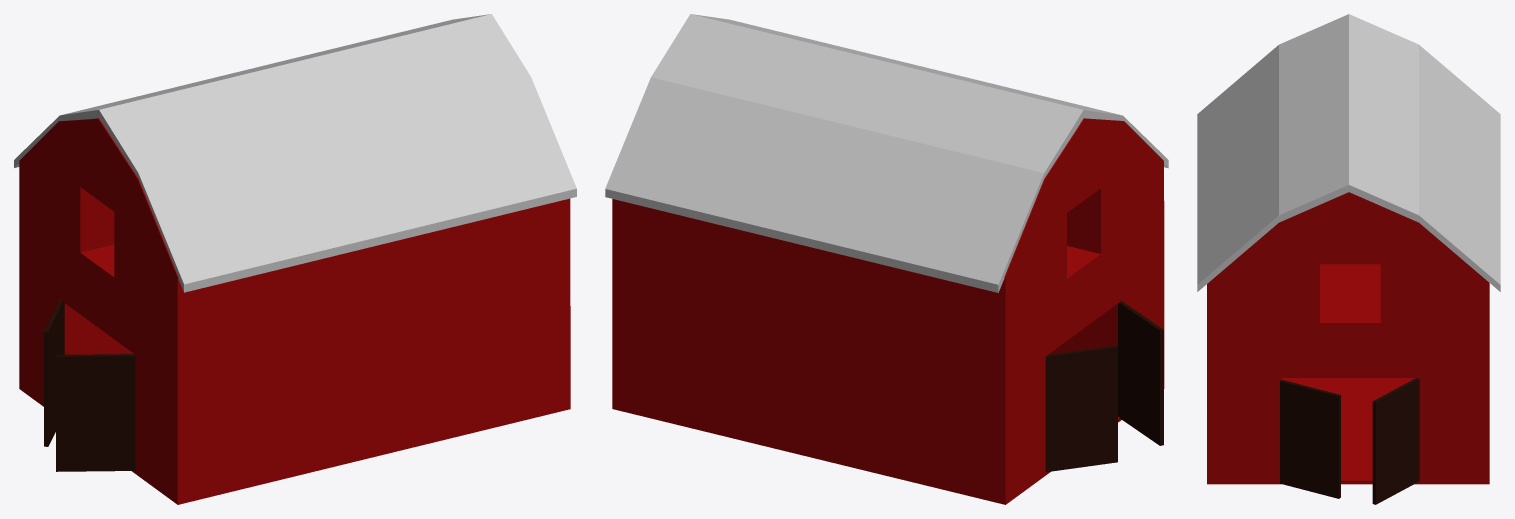
File: ferme.obj
3 renders of one model, left to right at view 1: azimuth 30°, elevation 25°; view 2: azimuth 150°, elevation 25°; view 3: azimuth 270°, elevation 25°, orthographic. The views are drawn at different scales.
Parts seen in each view (by area): view 1: Cube.005_Cube.009; view 2: Cube.005_Cube.009; view 3: Cube.005_Cube.009.
Boxes of the visible parts, x1,y1,x2,y2 form: Cube.005_Cube.009: (14,14,576,504); Cube.005_Cube.009: (605,14,1168,504); Cube.005_Cube.009: (1197,14,1500,504).
Size of the model in its own units: 10.37 by 6.55 by 6.
